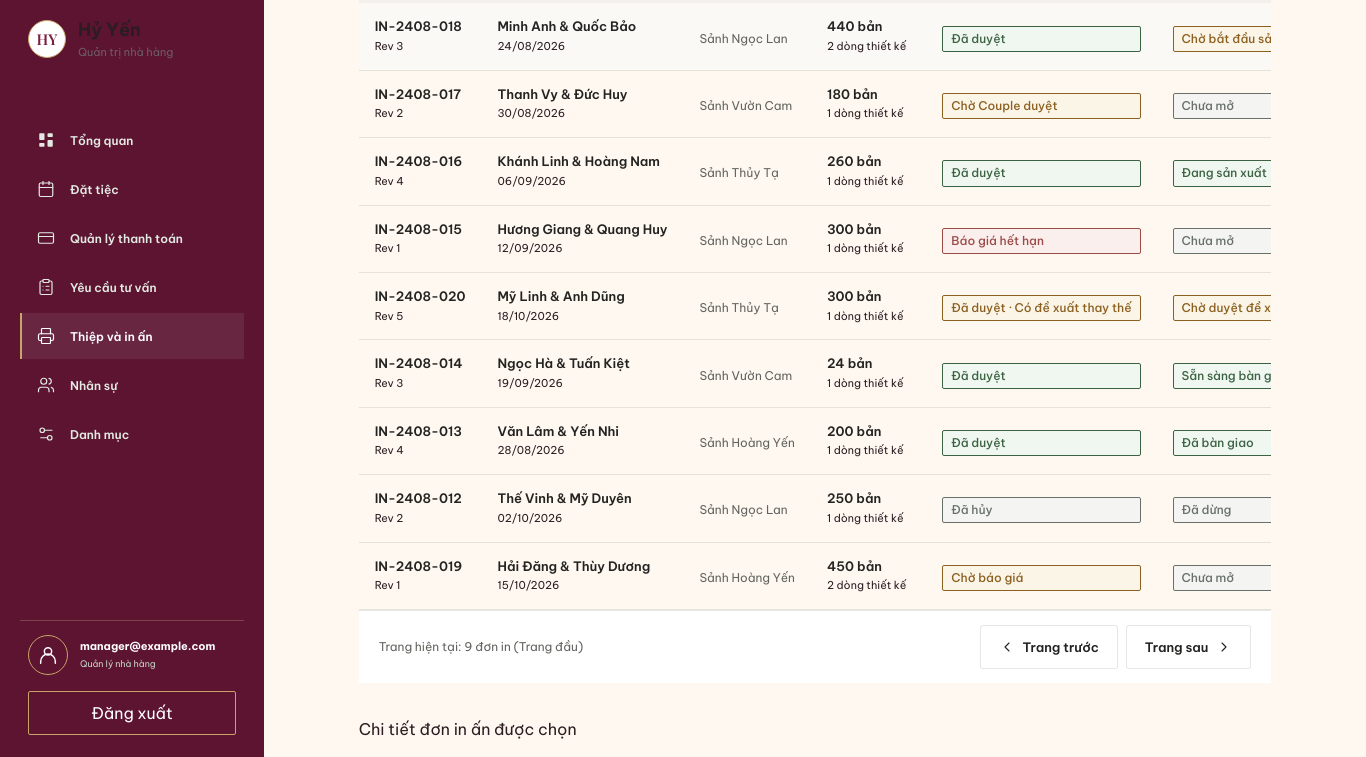
Test: Management Print Orders Workspace (M09–M14) › allows Manager to handover a READY_FOR_HANDOVER order with evidence reference
(page scrolled)
Click the button with aria-label "Chọn đơn in IN-2408-014".
click(862, 374)  # box [359,340,1365,407]
(page scrolled)
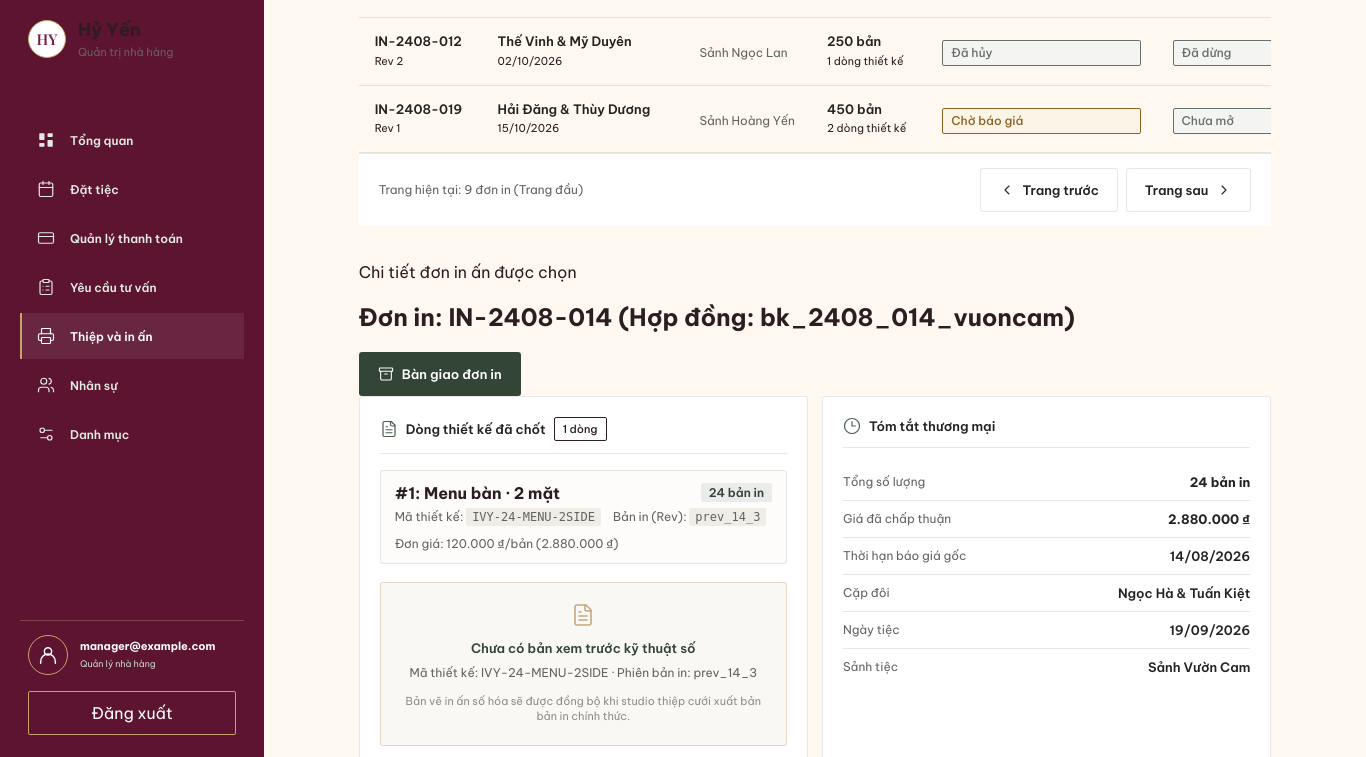
Click the button "Bàn giao đơn in".
click(440, 374)  # box [359,352,521,396]
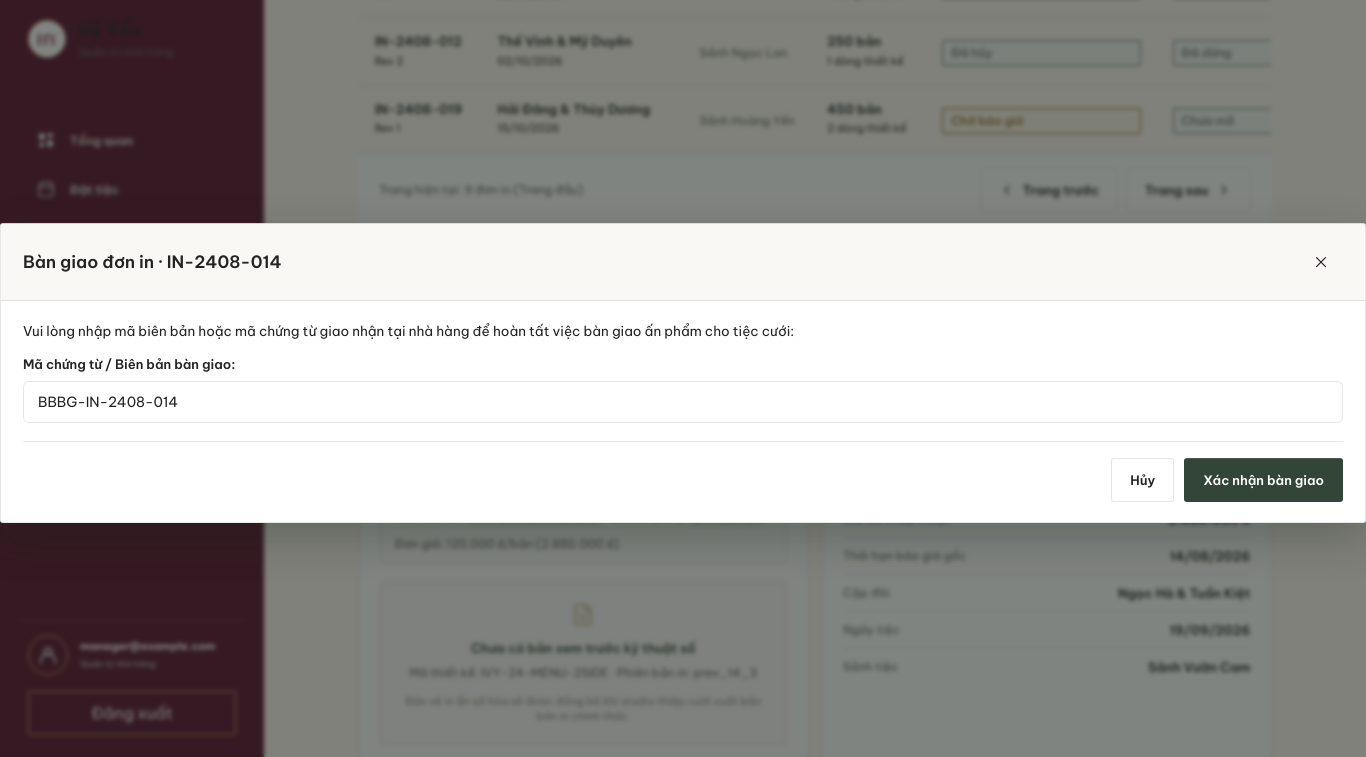
Expected: the dialog named "Xác nhận bàn giao" is shown, [0,223,1365,523]
Replace the text in the field with placeholder "Ví dụ: BG-2408-014-KHO" with "BG-2026-XUONG-01" at (683, 402), box [23,381,1343,423]
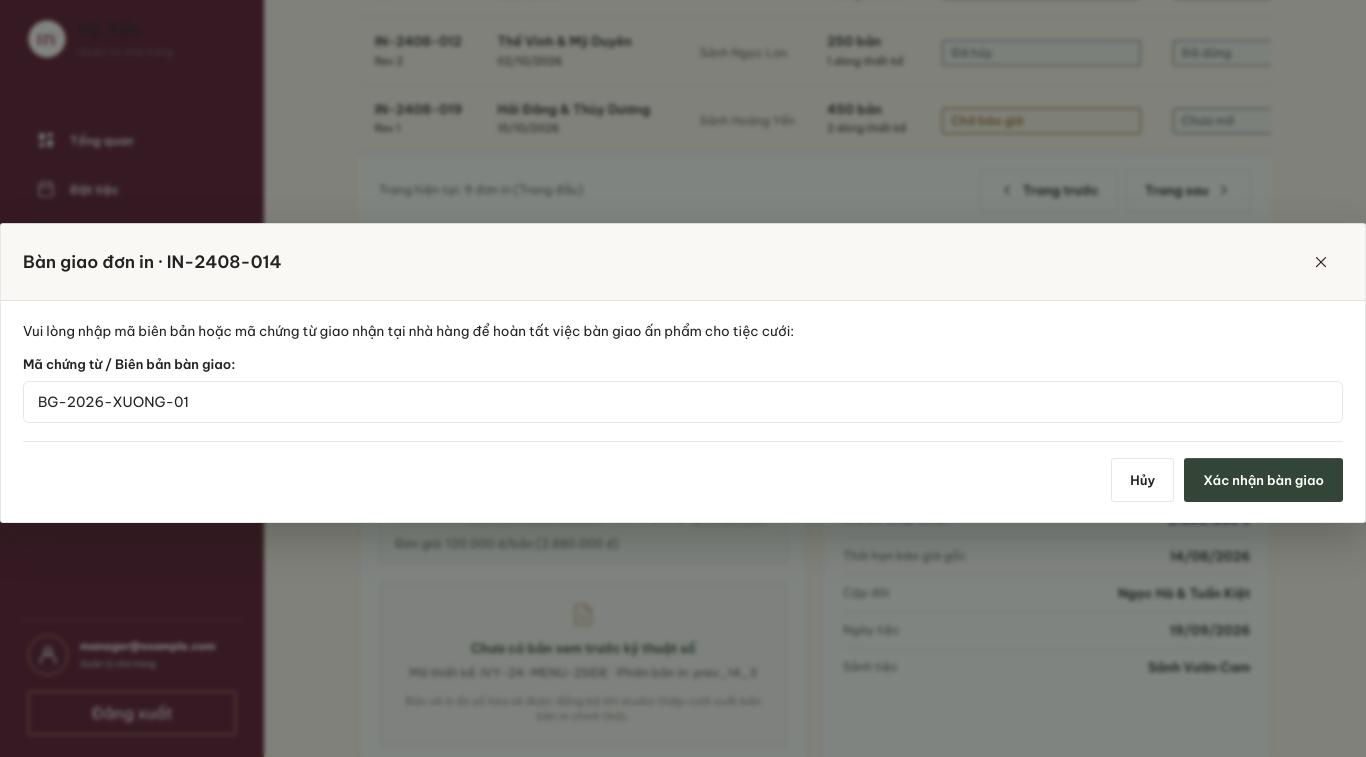
Click the button "Xác nhận bàn giao".
click(1264, 480)  # box [1184,458,1343,502]
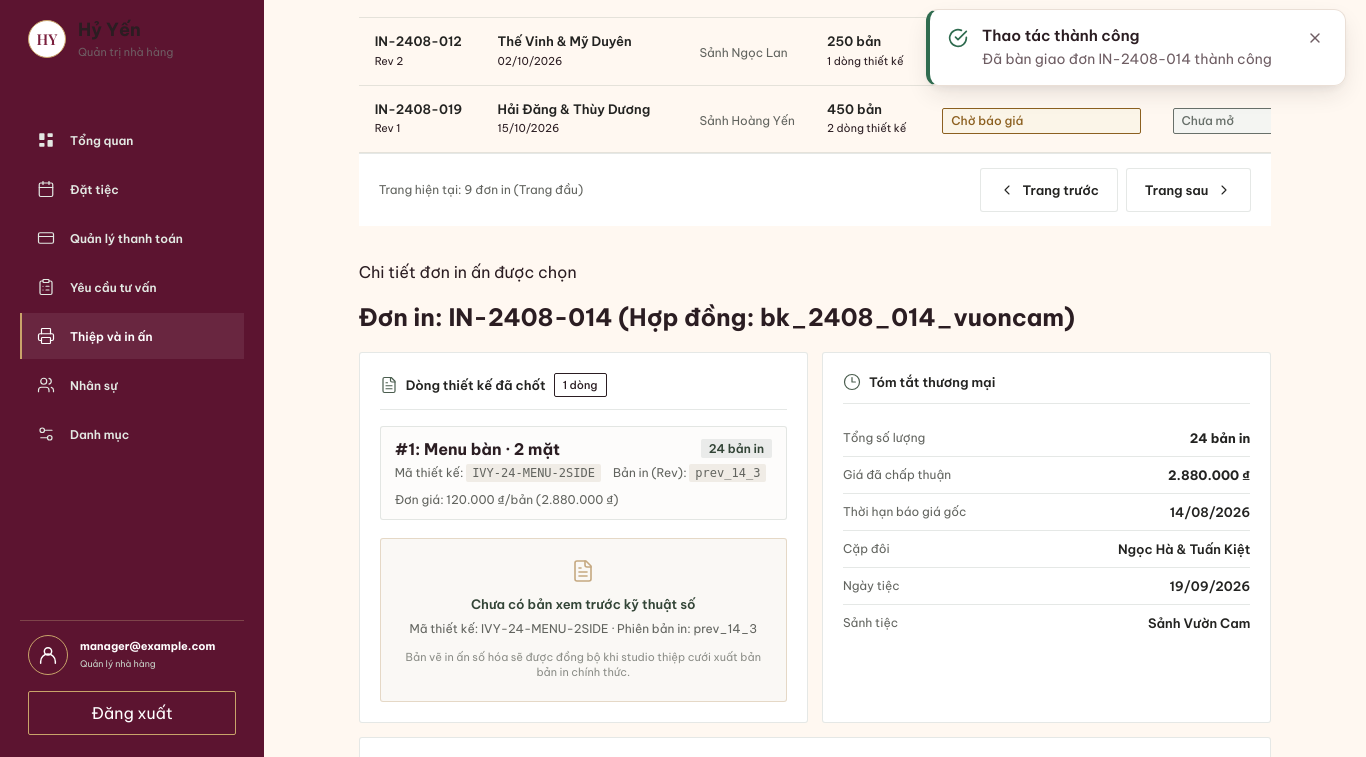
Expected: the text "Đã bàn giao đơn IN-2408-014 thành công" is shown, [982,50,1289,69]
